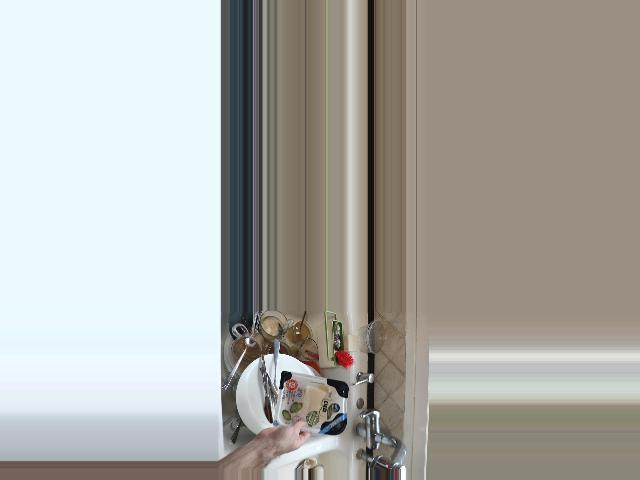cheese: (262, 373, 353, 453)
